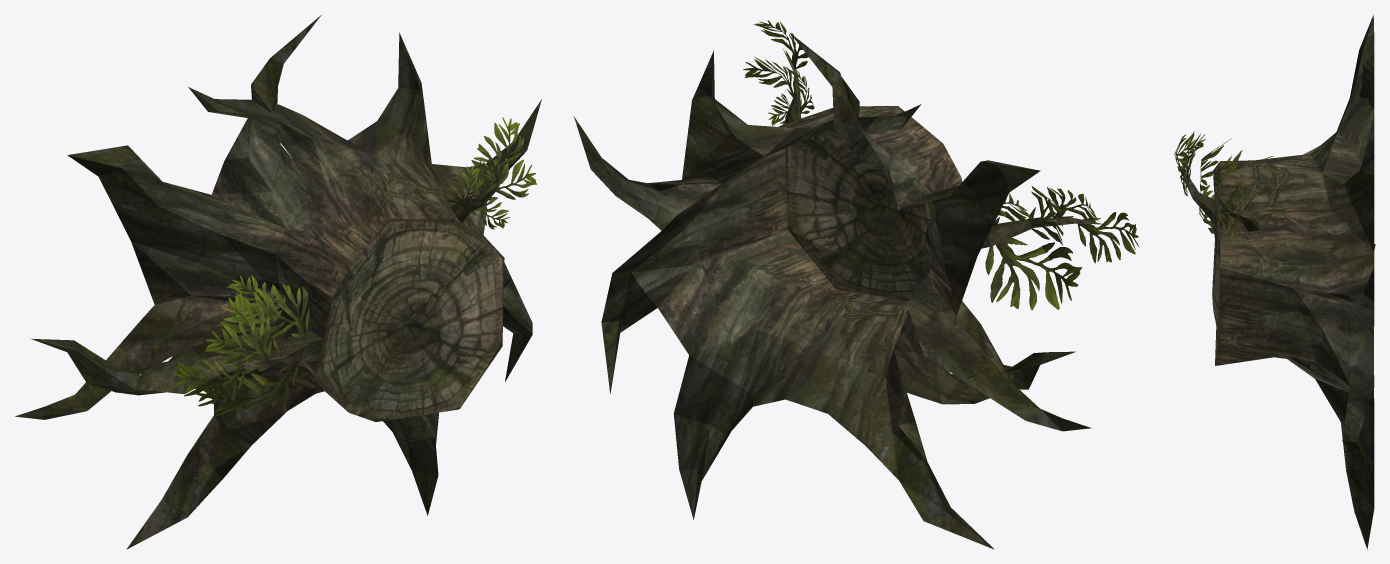
The model's file is mori_yewai_01_worldtree03.obj.
The picture shows the model from 3 angles, left to right: view 1: azimuth 30°, elevation 25°; view 2: azimuth 150°, elevation 25°; view 3: azimuth 270°, elevation 25°; orthographic projection. The views are drawn at different scales.
Visible parts, largest first — view 1: mori_yewai_01_worldtree03; view 2: mori_yewai_01_worldtree03; view 3: mori_yewai_01_worldtree03.
Boxes of the visible parts, <box> form: mori_yewai_01_worldtree03: <box>15,15,541,549</box>; mori_yewai_01_worldtree03: <box>573,20,1138,549</box>; mori_yewai_01_worldtree03: <box>1174,15,1375,549</box>.
Size of the model in its own units: 3529 by 3348 by 1349.
Materials: 3 (3 with a texture image).
